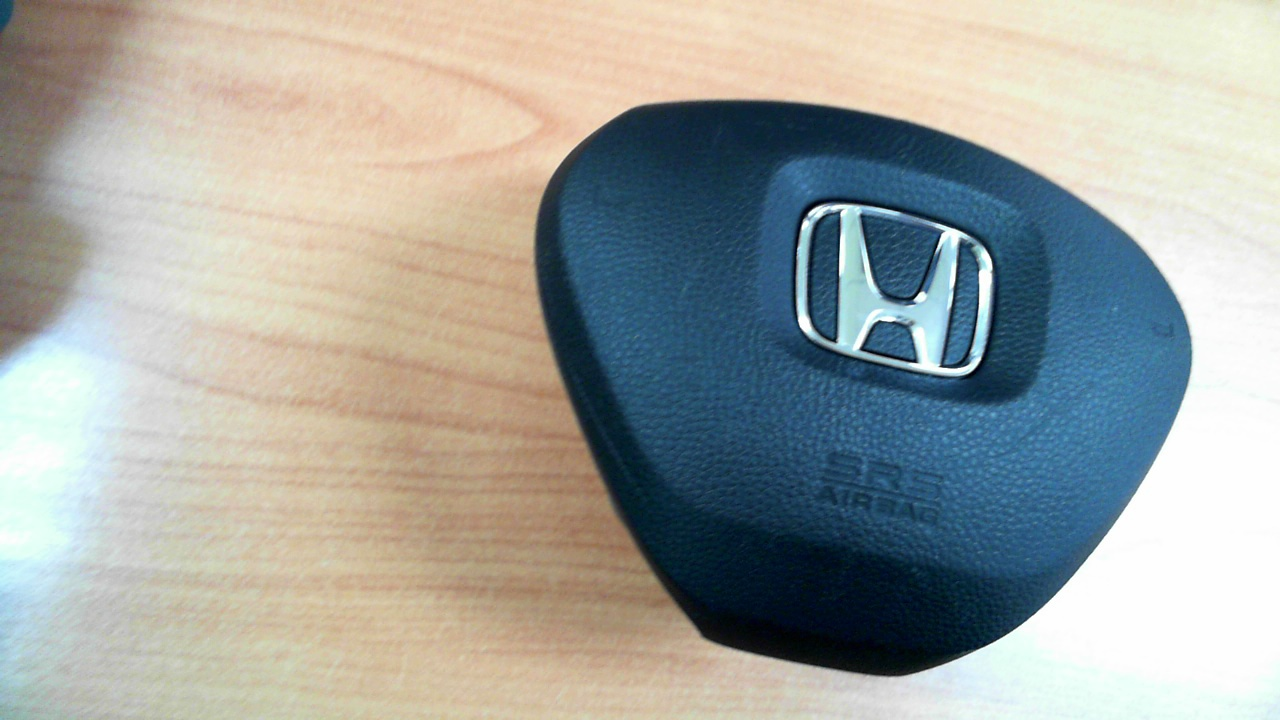Airbag: (532, 99, 1193, 679)
Honda: (795, 202, 993, 377)
